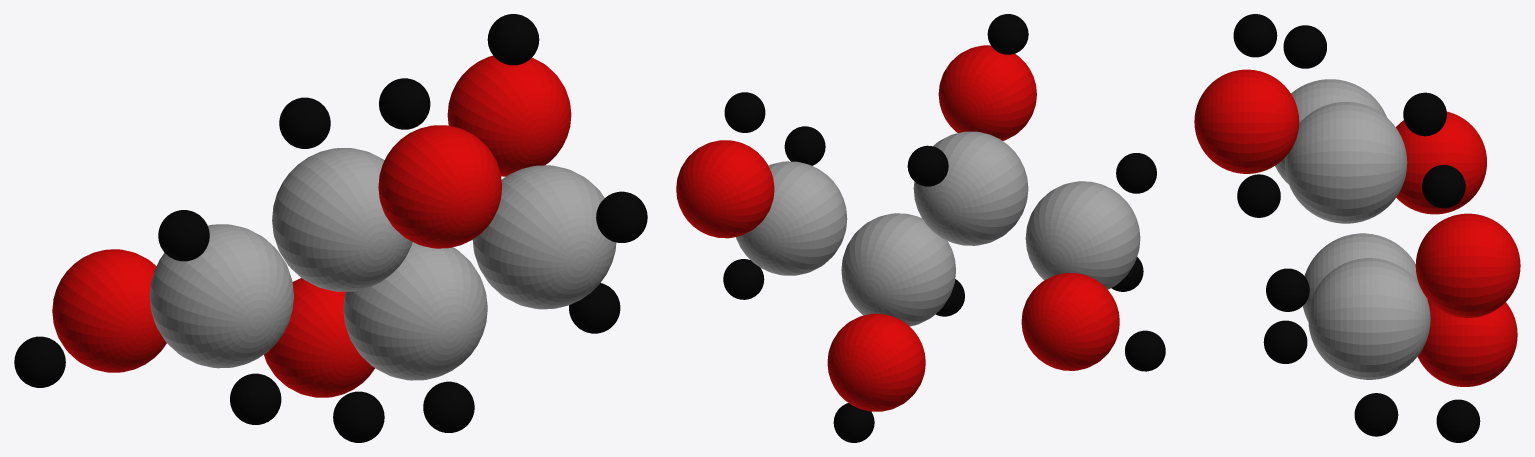
The model's file is Erythritol.glb.
3 views of the same model, side by side, from view 1: azimuth 30°, elevation 25°; view 2: azimuth 150°, elevation 25°; view 3: azimuth 270°, elevation 25° (orthographic). The views are drawn at different scales.
Visible parts, largest first — view 1: world; view 2: world; view 3: world.
Part boxes in pixels (x1,y1,x2,y2): world: [14, 14, 647, 442]; world: [676, 14, 1165, 442]; world: [1194, 14, 1520, 442].
Size of the model in its own units: 6.44 by 4.98 by 3.73.
